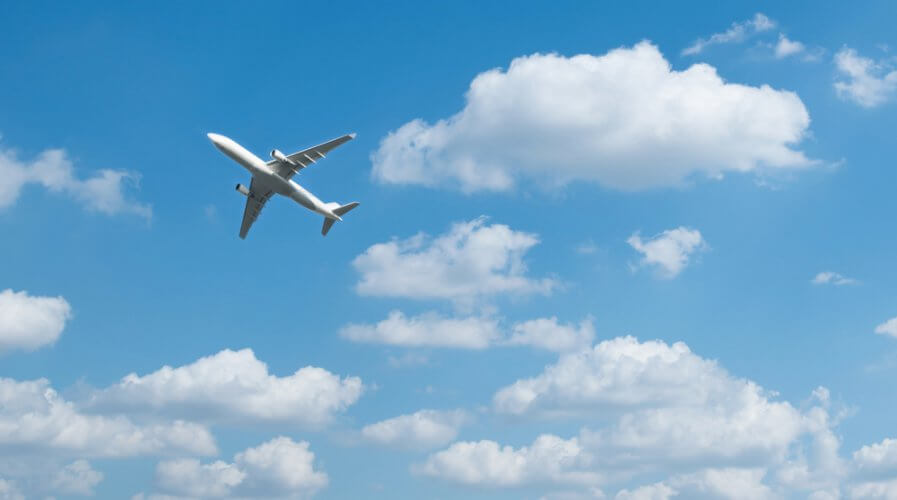plane: (204, 126, 364, 239)
